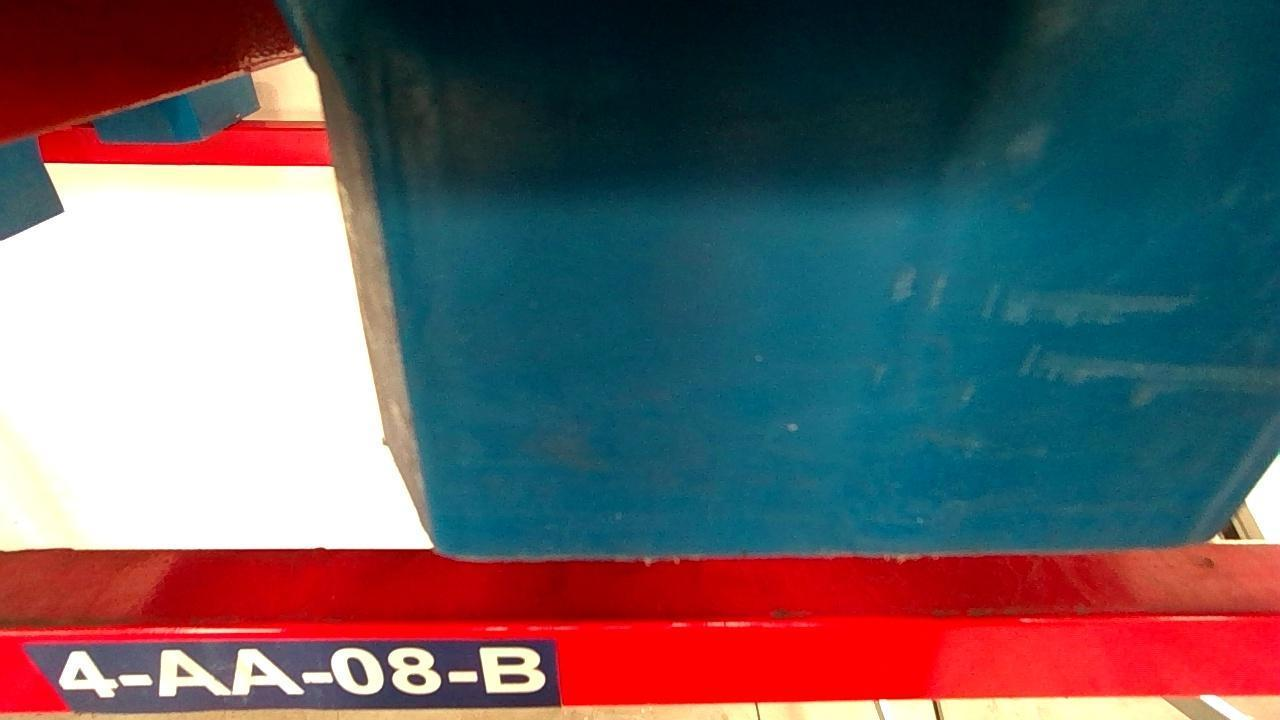h_rack: (1, 617, 1278, 711)
